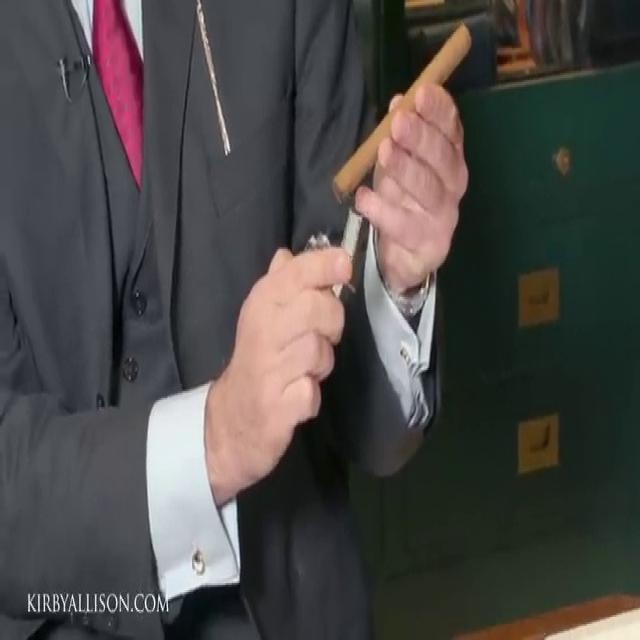Smooking: (326, 0, 482, 252)
